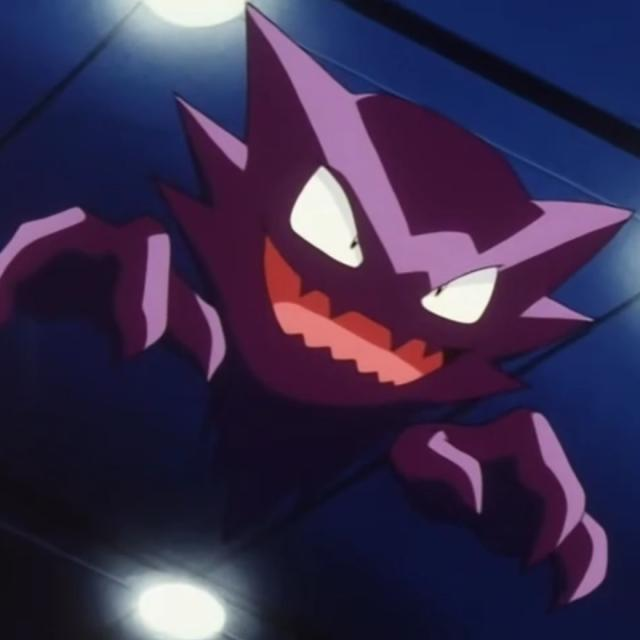Haunter: (119, 0, 640, 456)
